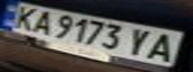1: (66, 16, 90, 45)
3: (103, 20, 127, 53)
7: (84, 18, 106, 48)
9: (48, 12, 75, 42)
A: (142, 30, 187, 63), (24, 9, 57, 36)
K: (3, 5, 42, 30)
Y: (124, 26, 160, 57)
